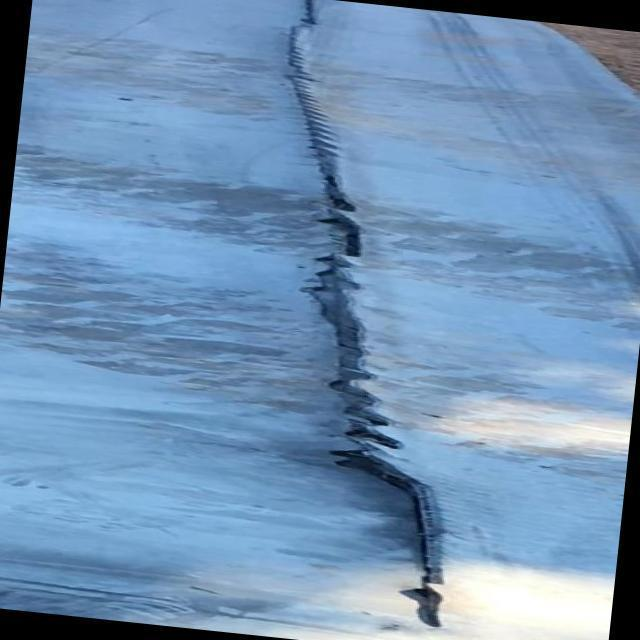Tear: (277, 0, 450, 632)
